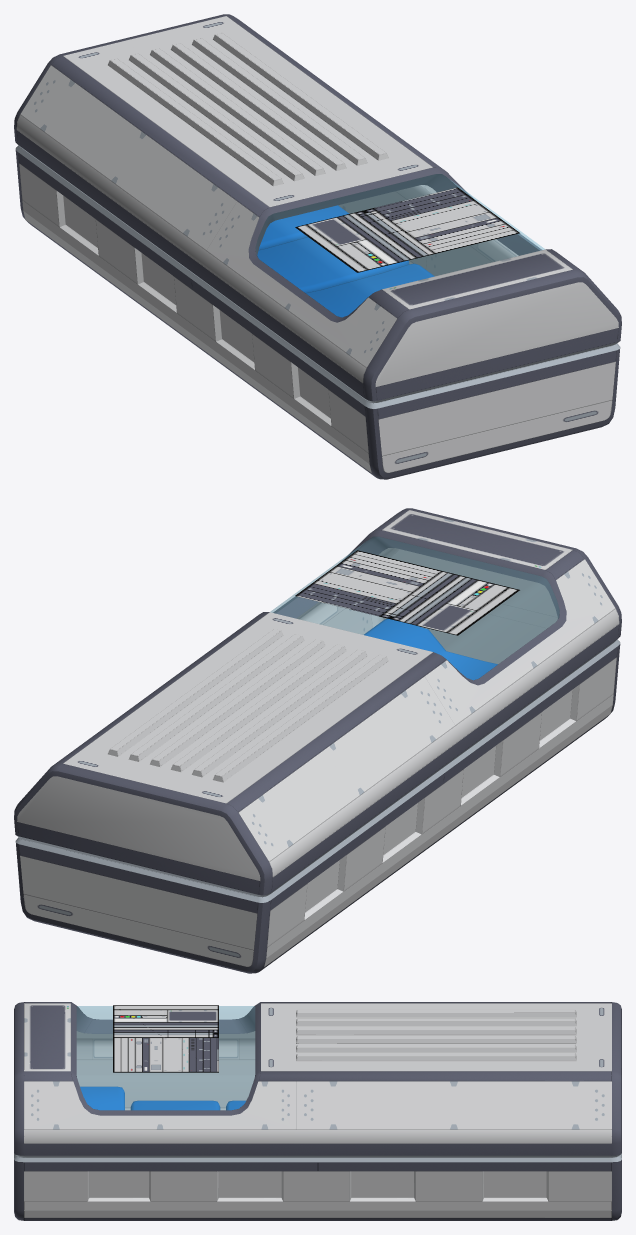
File: Cryo_Pod_01.FBX
3 renders of one model, top to bottom at view 1: azimuth 30°, elevation 25°; view 2: azimuth 150°, elevation 25°; view 3: azimuth 270°, elevation 25°, orthographic. The views are drawn at different scales.
Parts seen in each view (by area): view 1: Top, Cryo_Pod_01, Screen; view 2: Top, Cryo_Pod_01, Screen; view 3: Top, Cryo_Pod_01, Screen.
Part boxes in pixels (bbox=[...]): Top: bbox=[14, 14, 621, 403]; Cryo_Pod_01: bbox=[15, 145, 620, 479]; Screen: bbox=[295, 187, 519, 272]; Top: bbox=[14, 508, 621, 897]; Cryo_Pod_01: bbox=[15, 608, 620, 973]; Screen: bbox=[295, 550, 519, 635]; Top: bbox=[14, 1002, 621, 1157]; Cryo_Pod_01: bbox=[14, 1059, 621, 1220]; Screen: bbox=[113, 1005, 218, 1072].
Bounding box in the file's own units: 1.24 × 0.7734 × 3.
Materials: 3 (2 with a texture image).
